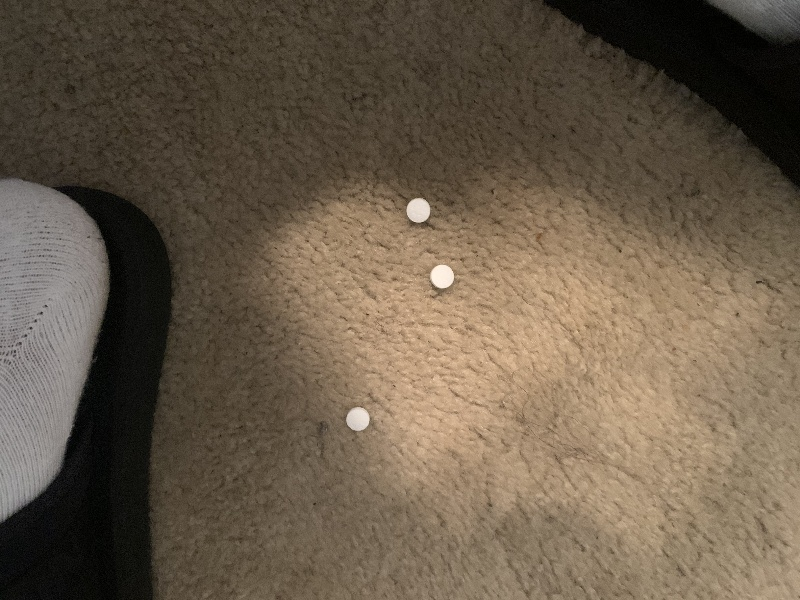Aspirin: (399, 193, 442, 229), (342, 403, 374, 435), (427, 259, 456, 293)
